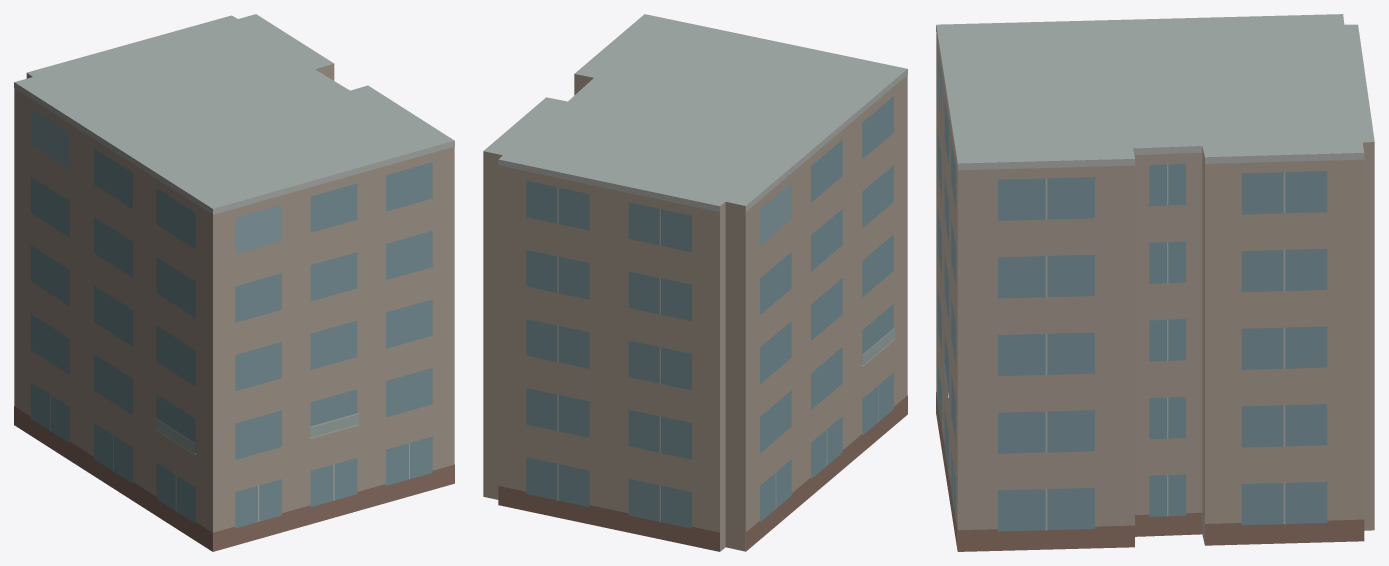
File: survey-upis-32892432.glb
3 renders of one model, left to right at view 1: azimuth 30°, elevation 25°; view 2: azimuth 150°, elevation 25°; view 3: azimuth 270°, elevation 25°, orthographic. The views are drawn at different scales.
Visible parts, largest first — view 1: survey-upis-32892432.tmp; view 2: survey-upis-32892432.tmp; view 3: survey-upis-32892432.tmp.
Boxes of the visible parts, x1,y1,x2,y2 form: survey-upis-32892432.tmp: (14, 14, 454, 551); survey-upis-32892432.tmp: (483, 14, 907, 551); survey-upis-32892432.tmp: (936, 14, 1374, 551).
Bounding box in the file's own units: 11.61 × 14.05 × 14.39.
